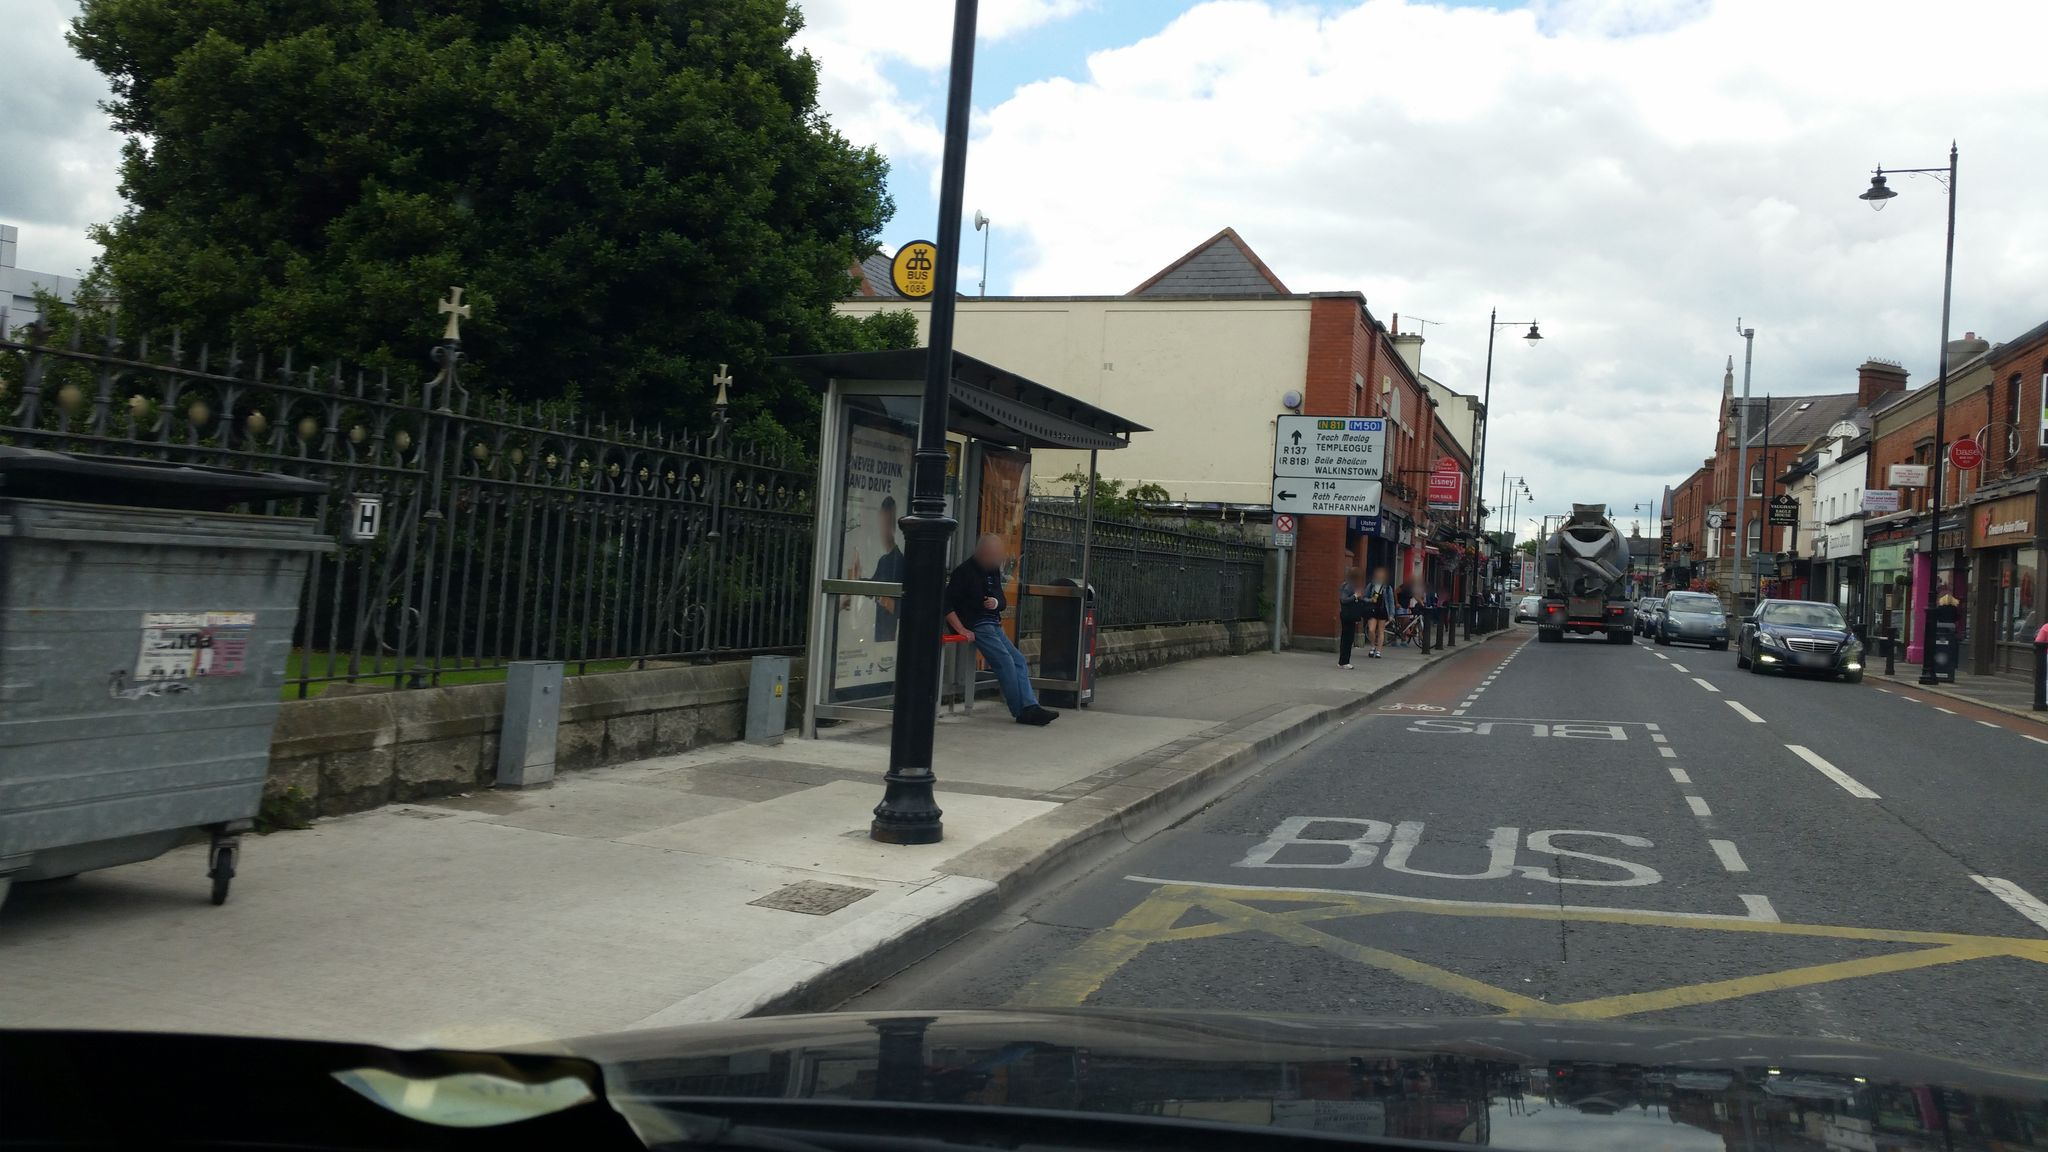property sign: (1423, 468, 1467, 518)
